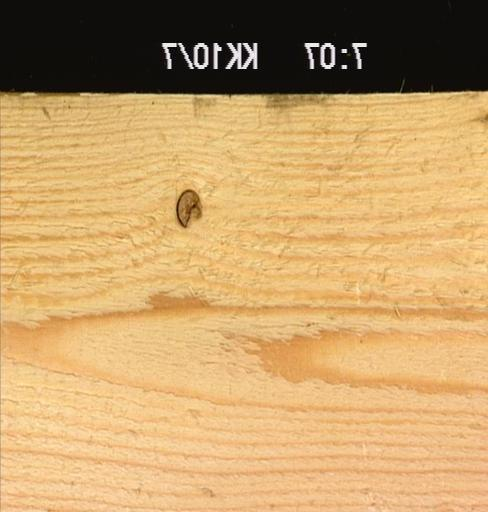dry_knot: (173, 187, 202, 229)
